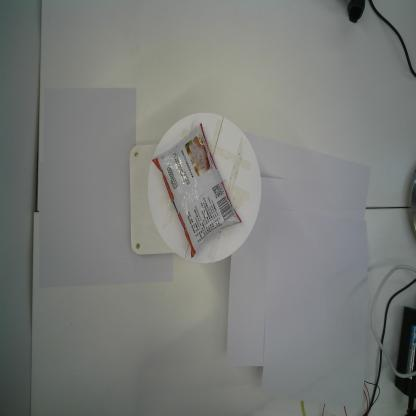Seasoner: (149, 120, 242, 260)
